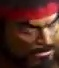ryu: (6, 0, 58, 67)
